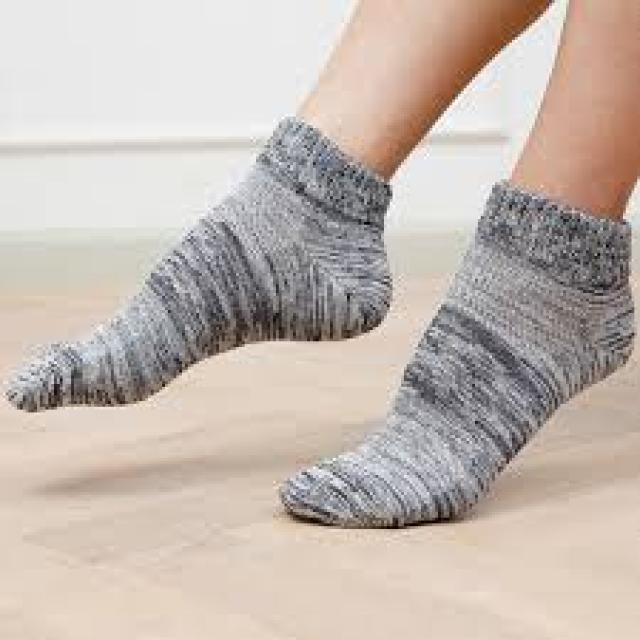sock: (276, 179, 634, 529), (3, 114, 392, 412)
